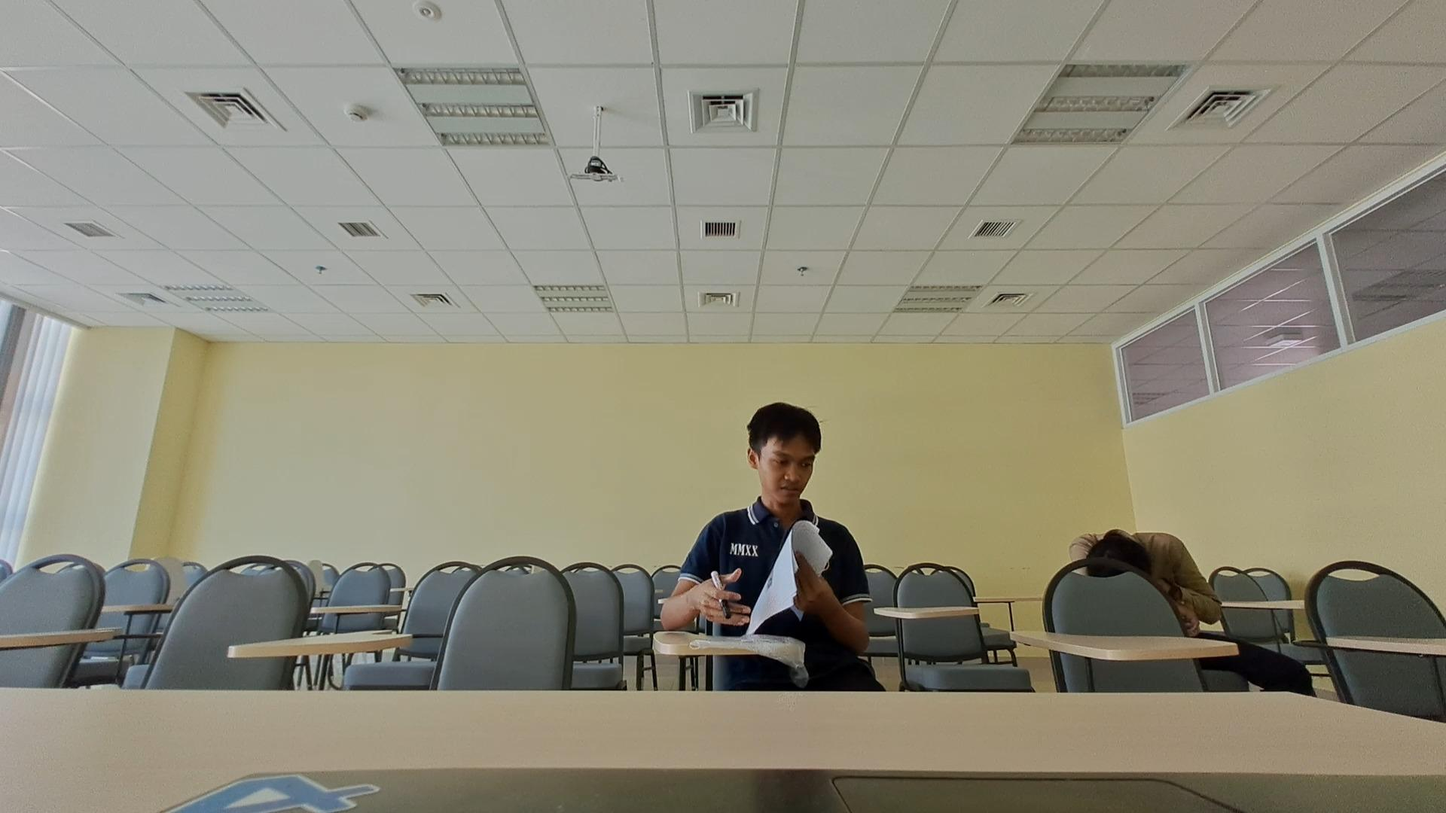sleep: (1068, 519, 1239, 649)
study: (651, 393, 881, 693)
